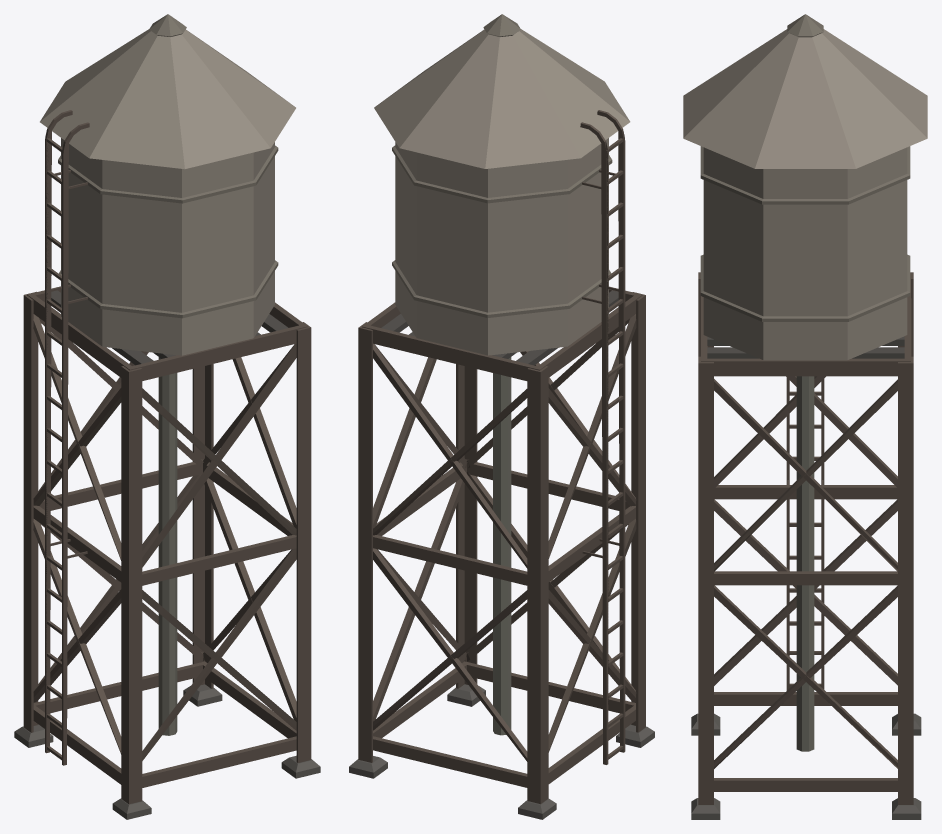
The model's file is SM_Props_Roof_Water_Tower_02.fbx.
3 views of the same model, side by side, from view 1: azimuth 30°, elevation 25°; view 2: azimuth 150°, elevation 25°; view 3: azimuth 270°, elevation 25° (orthographic). The views are drawn at different scales.
Parts seen in each view (by area): view 1: SM_Props_Roof_Water_Tower_02; view 2: SM_Props_Roof_Water_Tower_02; view 3: SM_Props_Roof_Water_Tower_02.
Boxes of the visible parts, x1,y1,x2,y2 form: SM_Props_Roof_Water_Tower_02: [14, 14, 320, 819]; SM_Props_Roof_Water_Tower_02: [349, 14, 654, 819]; SM_Props_Roof_Water_Tower_02: [683, 14, 927, 819].
Bounding box in the file's own units: 272 × 887 × 259.
